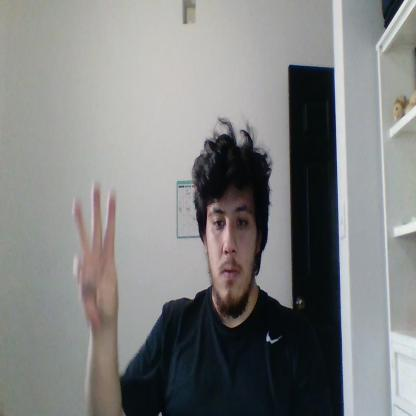W: (72, 182, 118, 323)
